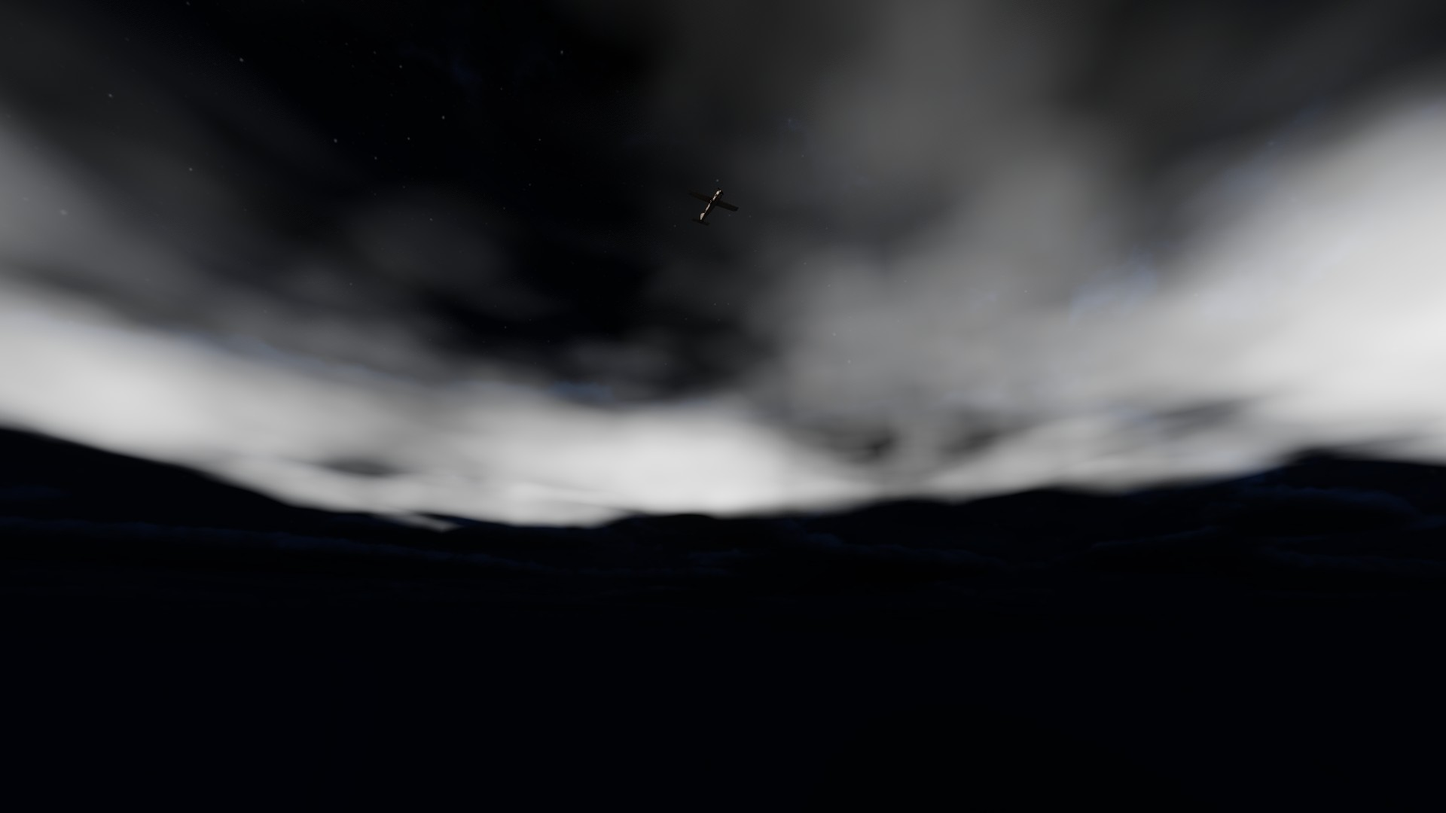drone_other: (689, 187, 738, 226)
